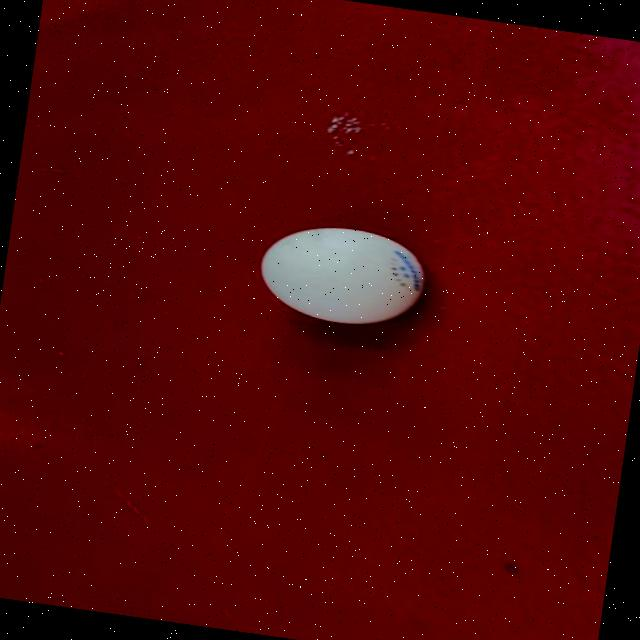ping-pong-ball: (246, 214, 436, 339)
